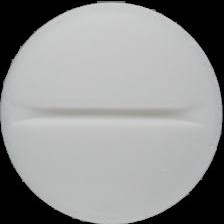43063-438: (0, 0, 224, 224)
